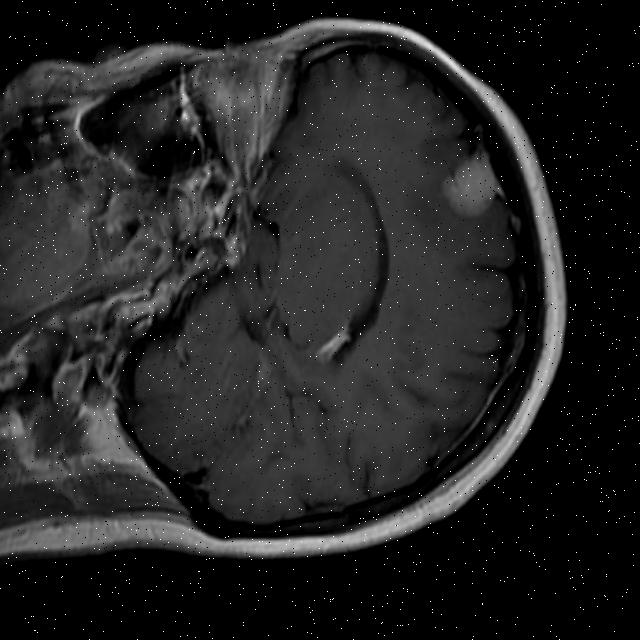Meningioma: (435, 135, 511, 222)
